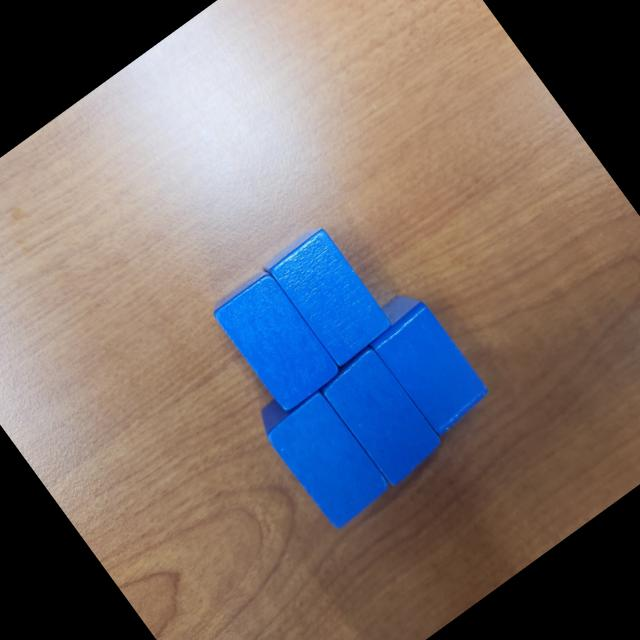blue: (250, 371, 397, 535), (354, 281, 496, 439), (206, 266, 344, 416), (258, 221, 396, 371), (313, 342, 448, 490)
